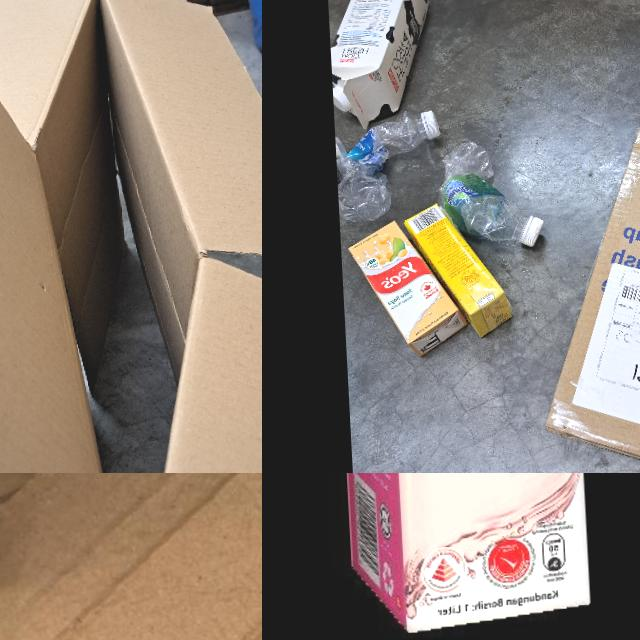caixinha: (325, 473, 595, 637), (348, 218, 467, 360), (404, 200, 514, 341), (326, 0, 434, 129)
garrafa plástica: (334, 106, 444, 224), (436, 138, 546, 250), (420, 109, 440, 140)
papelão: (0, 0, 262, 473), (523, 0, 640, 473), (0, 473, 262, 640)
tampa plástica: (518, 215, 546, 248), (333, 84, 350, 112)
